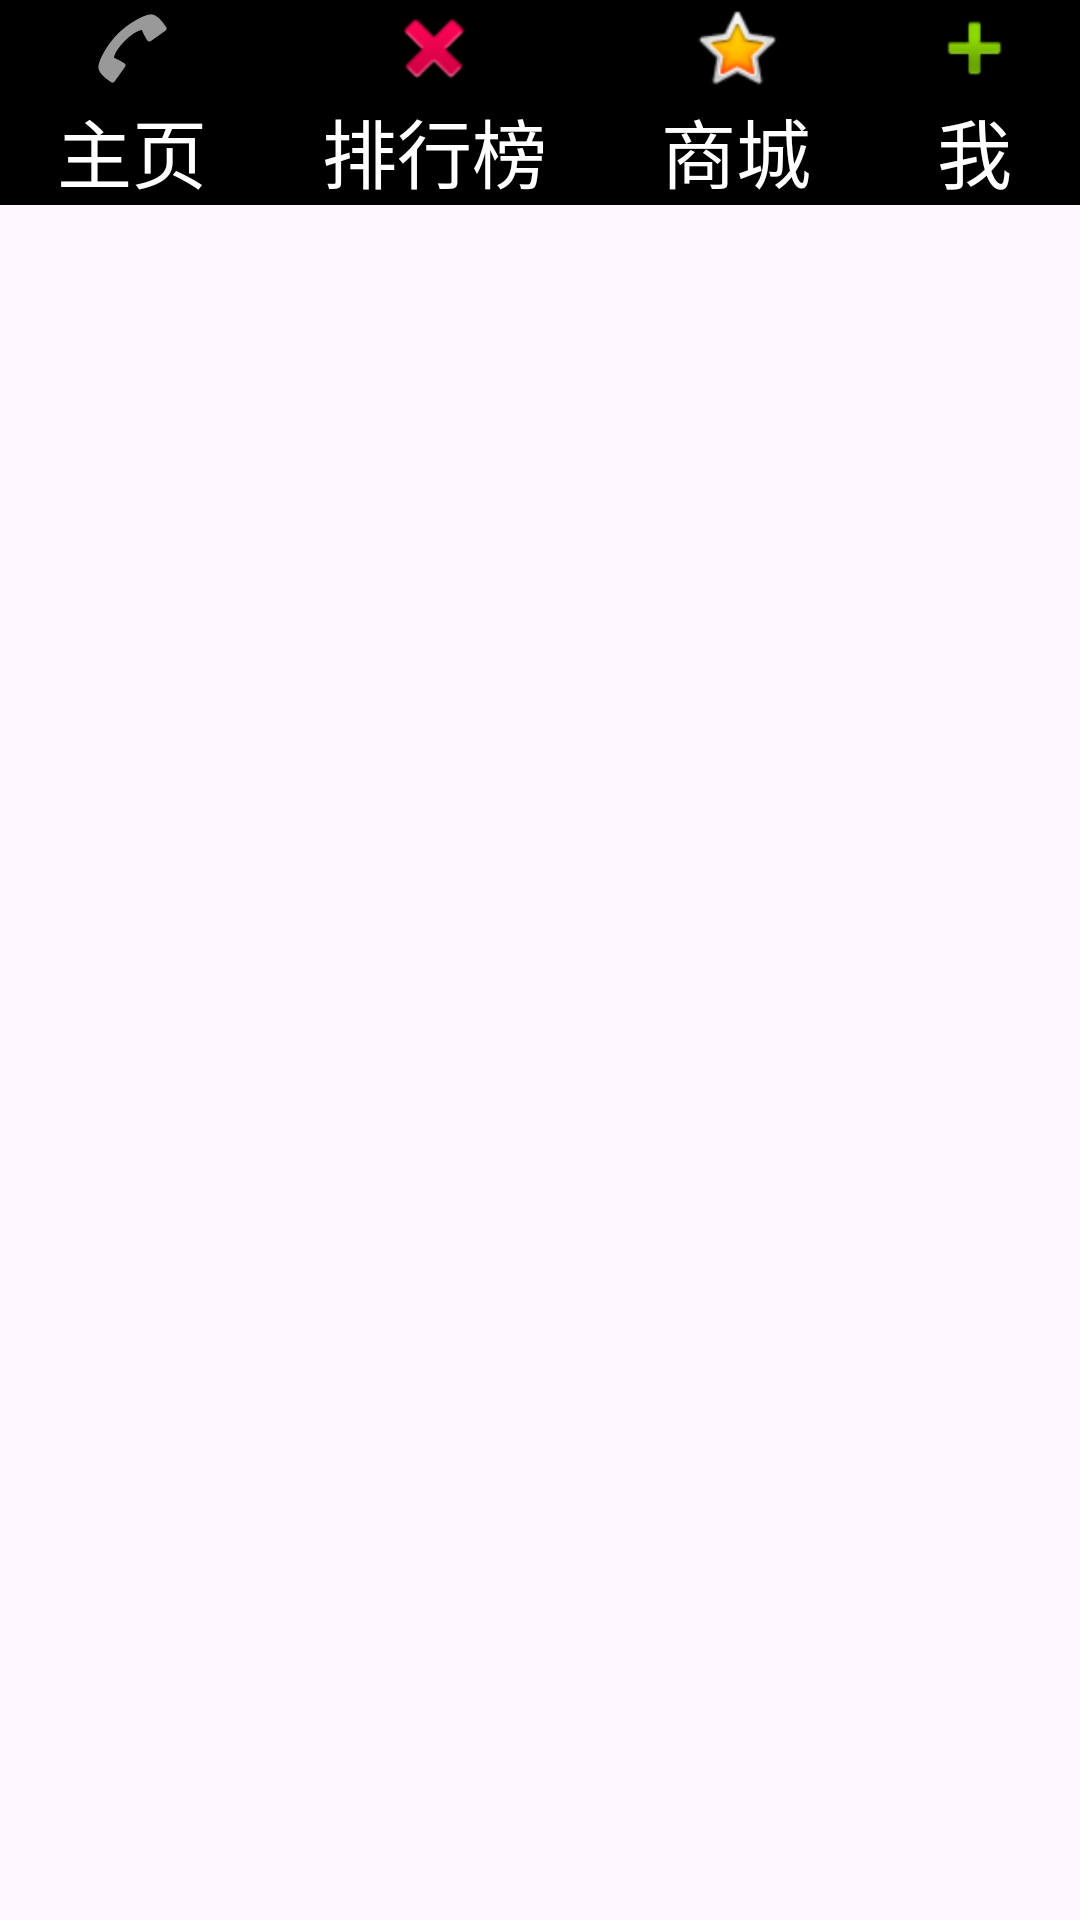

Icon click points for this 1080 × 1920 phone screenshot, format (x,y):
add: (974,48)
call: (132,48)
delete: (434,48)
star on: (737,48)
